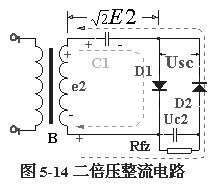cap1: (102, 30, 113, 49), (170, 125, 181, 143)
diode: (150, 77, 170, 95), (189, 78, 209, 94)
res1: (165, 147, 194, 155)
trans: (30, 32, 73, 138)
